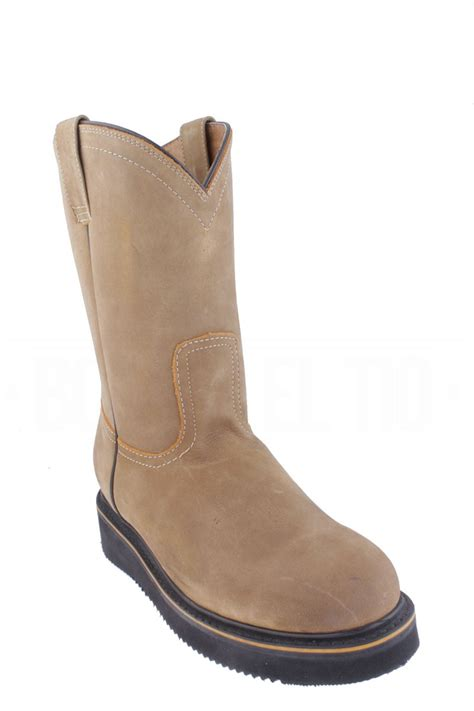gamuza: (54, 115, 402, 633)
